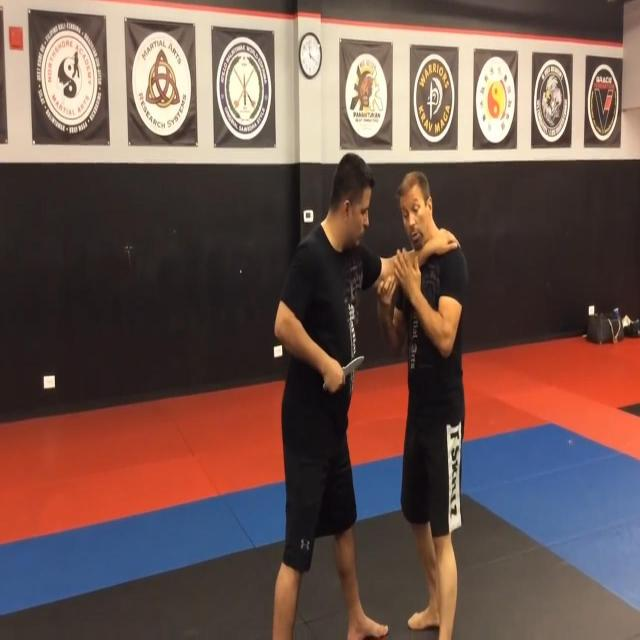Knife: (323, 356, 365, 390)
Person: (274, 153, 462, 640), (376, 170, 468, 640)
